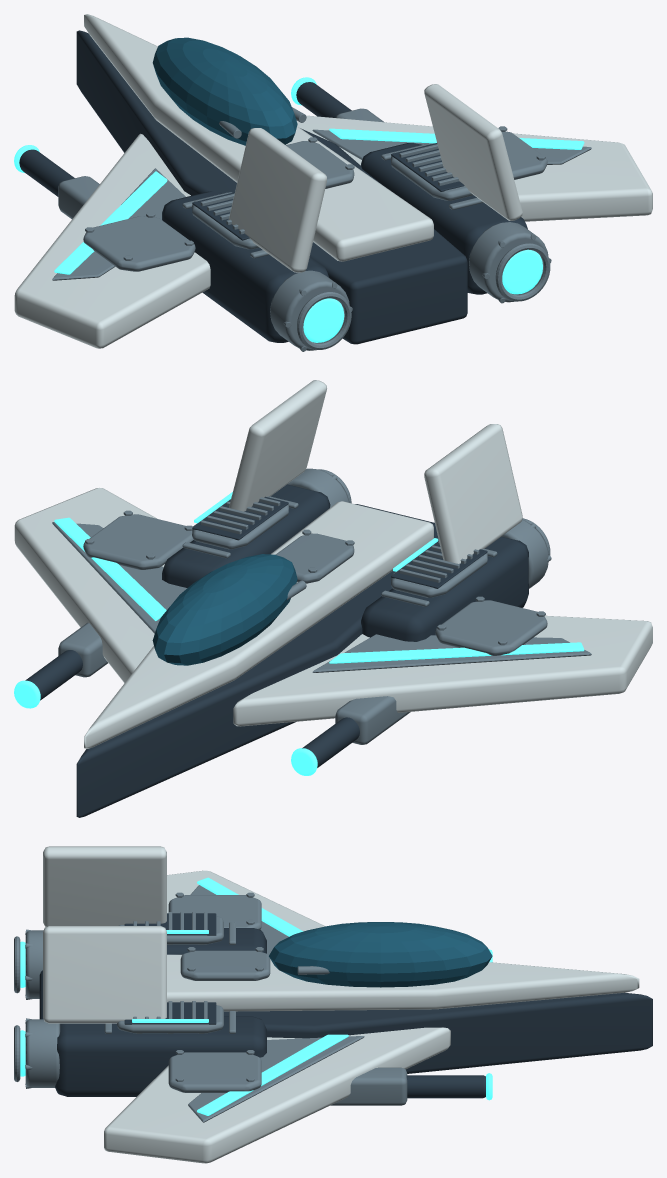
File: Kestrel.fbx
The picture shows the model from 3 angles, top to bottom: view 1: azimuth 30°, elevation 25°; view 2: azimuth 150°, elevation 25°; view 3: azimuth 270°, elevation 25°; orthographic projection. The views are drawn at different scales.
Parts seen in each view (by area): view 1: Kestrel keel.004, Swept falcon wing.008, Pointed upper armor.004, Swept falcon wing.009, Kestrel canopy.004, Canted tail.008, Vented nacelle.008, Canted tail.009, Vented nacelle.009, Inset service armor.214, Engine shroud.009, Engine shroud.008 (+17 smaller); view 2: Swept falcon wing.008, Kestrel keel.004, Pointed upper armor.004, Swept falcon wing.009, Kestrel canopy.004, Canted tail.008, Vented nacelle.008, Canted tail.009, Vented nacelle.009, Inset service armor.214, Inset service armor.216, Blue wing inset.008 (+14 smaller); view 3: Kestrel keel.004, Swept falcon wing.009, Pointed upper armor.004, Canted tail.009, Kestrel canopy.004, Canted tail.008, Vented nacelle.009, Inset service armor.216, Inset service armor.218, Blue wing inset.009, Engine shroud.009, Inset service armor.214 (+12 smaller).
Boxes of the visible parts, x1,y1,x2,y2 form: Kestrel keel.004: [76, 30, 467, 344]; Swept falcon wing.008: [14, 133, 210, 348]; Pointed upper armor.004: [84, 14, 433, 261]; Swept falcon wing.009: [296, 115, 652, 221]; Kestrel canopy.004: [152, 37, 297, 145]; Canted tail.008: [228, 128, 326, 272]; Vented nacelle.008: [162, 191, 328, 342]; Canted tail.009: [424, 84, 522, 220]; Vented nacelle.009: [361, 143, 527, 294]; Inset service armor.214: [83, 216, 195, 271]; Engine shroud.009: [469, 222, 548, 302]; Engine shroud.008: [270, 270, 349, 350]; Swept falcon wing.008: [233, 615, 652, 726]; Kestrel keel.004: [76, 504, 438, 817]; Pointed upper armor.004: [84, 501, 433, 748]; Swept falcon wing.009: [14, 487, 164, 682]; Kestrel canopy.004: [152, 554, 297, 665]; Canted tail.008: [424, 424, 522, 563]; Vented nacelle.008: [361, 536, 528, 641]; Canted tail.009: [229, 380, 326, 511]; Vented nacelle.009: [162, 484, 330, 587]; Inset service armor.214: [435, 600, 547, 655]; Inset service armor.216: [83, 514, 193, 569]; Blue wing inset.008: [312, 634, 591, 672]; Kestrel keel.004: [39, 970, 652, 1073]; Swept falcon wing.009: [104, 1027, 450, 1163]; Pointed upper armor.004: [167, 954, 639, 1011]; Canted tail.009: [43, 926, 166, 1023]; Kestrel canopy.004: [269, 922, 492, 987]; Canted tail.008: [43, 846, 166, 927]; Vented nacelle.009: [55, 1016, 266, 1096]; Inset service armor.216: [168, 1052, 261, 1092]; Inset service armor.218: [180, 950, 270, 980]; Blue wing inset.009: [188, 1036, 364, 1122]; Engine shroud.009: [25, 1019, 60, 1087]; Inset service armor.214: [168, 895, 261, 929].
Bounding box in the file's own units: 374 × 105 × 371.
